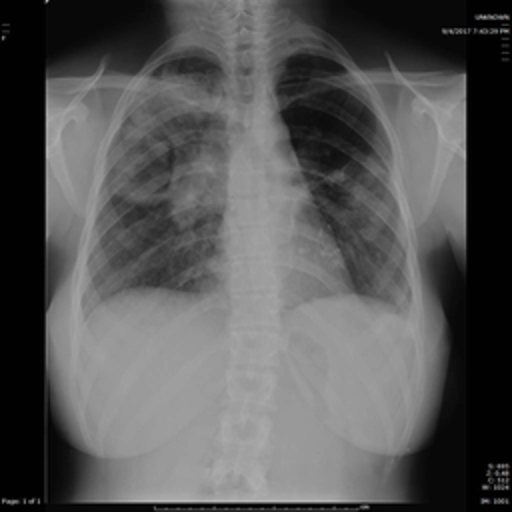TB: (113, 79, 219, 239)
